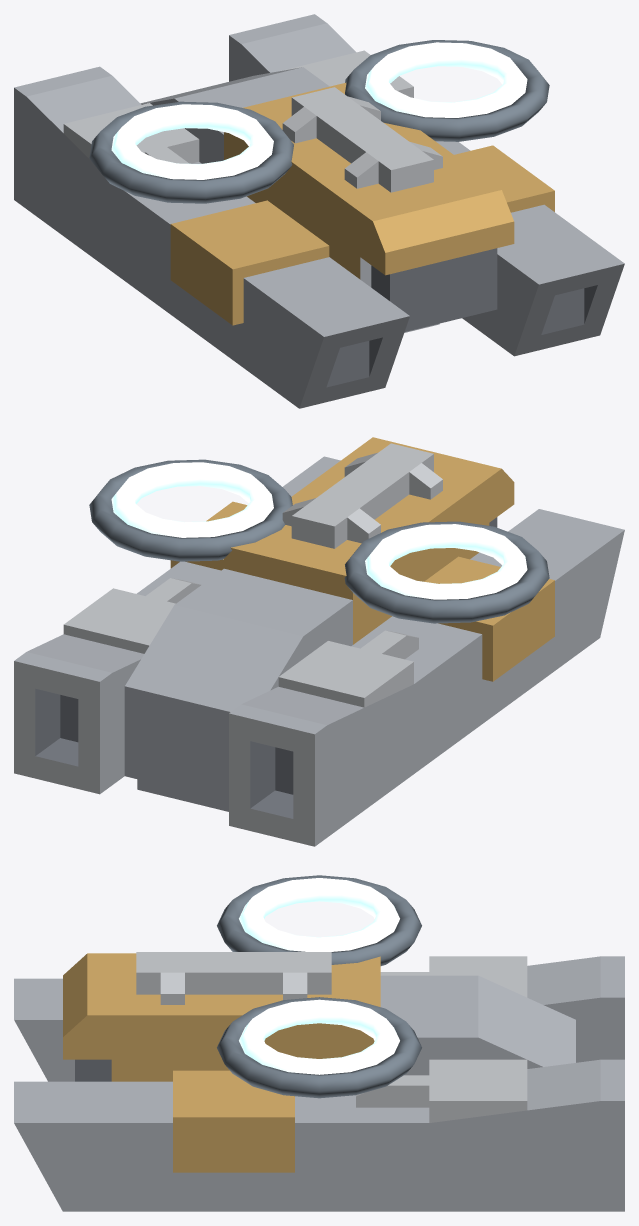
Rendered from enemy_support.glb.
3 views of the same model, one above another, from view 1: azimuth 30°, elevation 25°; view 2: azimuth 150°, elevation 25°; view 3: azimuth 270°, elevation 25° (orthographic).
Parts seen in each view (by area): view 1: enemy_support; view 2: enemy_support; view 3: enemy_support.
Part boxes in pixels (x1,y1,x2,y2): enemy_support: [14, 14, 624, 408]; enemy_support: [14, 437, 624, 846]; enemy_support: [14, 875, 624, 1211].
Bounding box in the file's own units: 1.37 × 0.6102 × 1.7.
